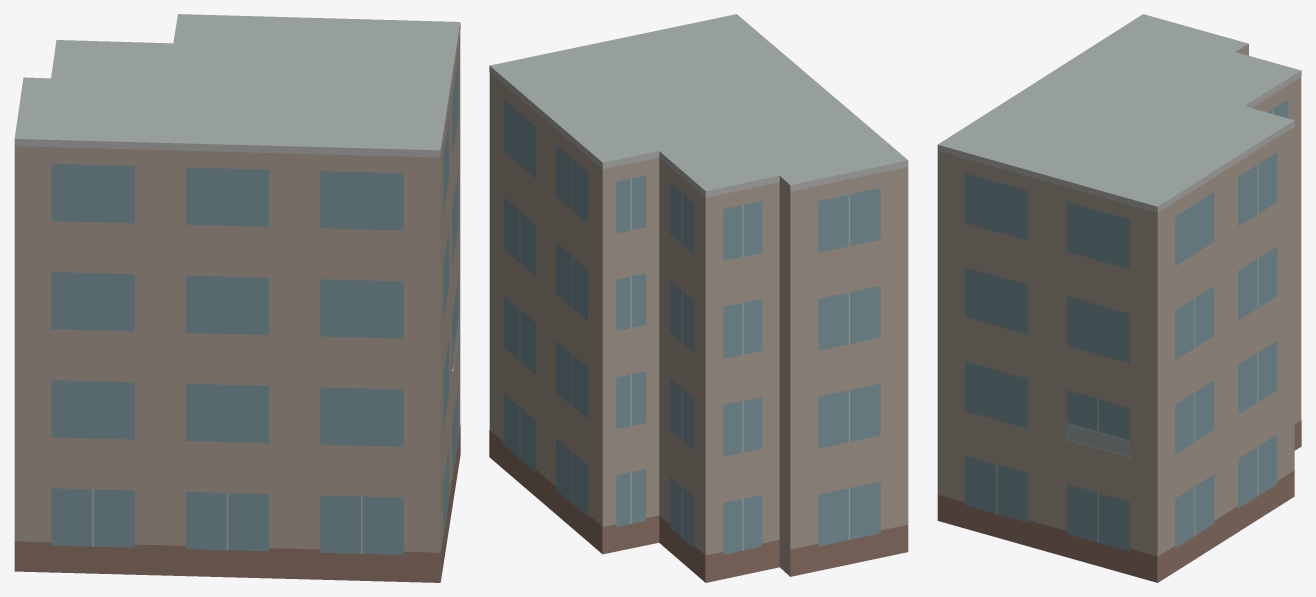
Rendered from survey-upis-33041438.glb.
3 views of the same model, side by side, from view 1: azimuth 30°, elevation 25°; view 2: azimuth 150°, elevation 25°; view 3: azimuth 270°, elevation 25° (orthographic). The views are drawn at different scales.
Parts seen in each view (by area): view 1: survey-upis-33041438.tmp; view 2: survey-upis-33041438.tmp; view 3: survey-upis-33041438.tmp.
Boxes of the visible parts, bbox=[...] form: survey-upis-33041438.tmp: bbox=[14, 14, 460, 582]; survey-upis-33041438.tmp: bbox=[489, 14, 908, 582]; survey-upis-33041438.tmp: bbox=[937, 14, 1301, 582].
Bounding box in the file's own units: 16.06 × 14.6 × 12.81.
